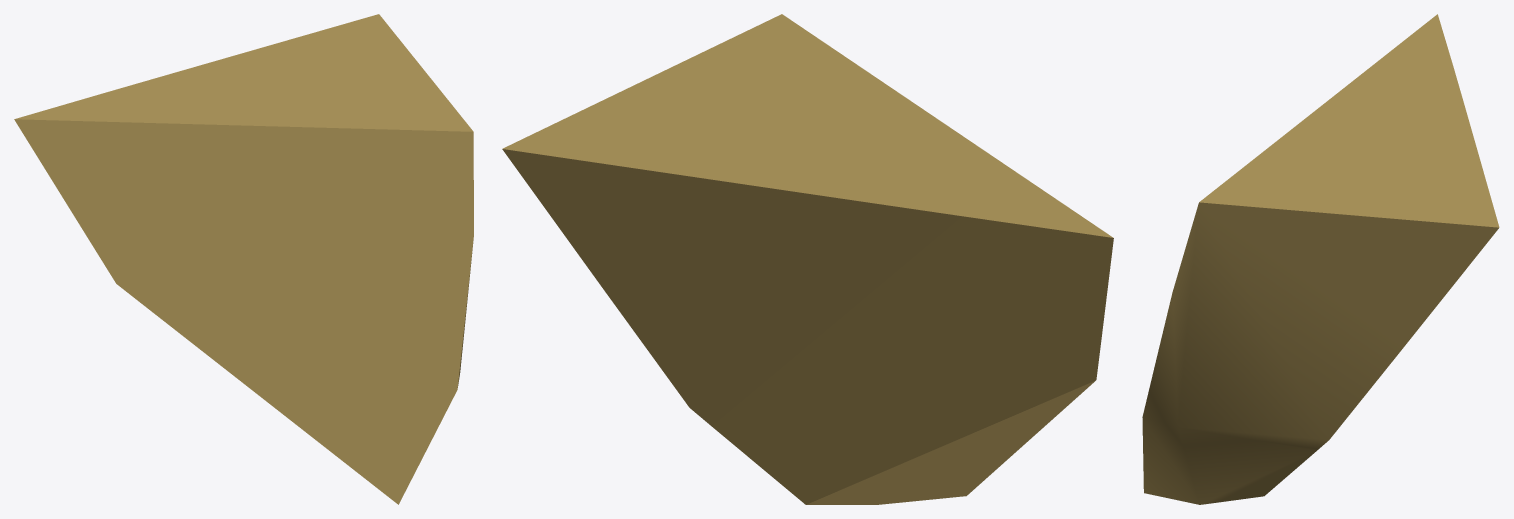
File: broken_pot_cell.022_cell.013.fbx
3 views of the same model, side by side, from view 1: azimuth 30°, elevation 25°; view 2: azimuth 150°, elevation 25°; view 3: azimuth 270°, elevation 25° (orthographic). The views are drawn at different scales.
Parts seen in each view (by area): view 1: broken_pot_cell.022_cell.013; view 2: broken_pot_cell.022_cell.013; view 3: broken_pot_cell.022_cell.013.
Boxes of the visible parts, x1,y1,x2,y2 form: broken_pot_cell.022_cell.013: (14,14,473,504); broken_pot_cell.022_cell.013: (502,14,1113,504); broken_pot_cell.022_cell.013: (1142,14,1499,504).
Bounding box in the file's own units: 0.1576 × 0.1186 × 0.1303.
